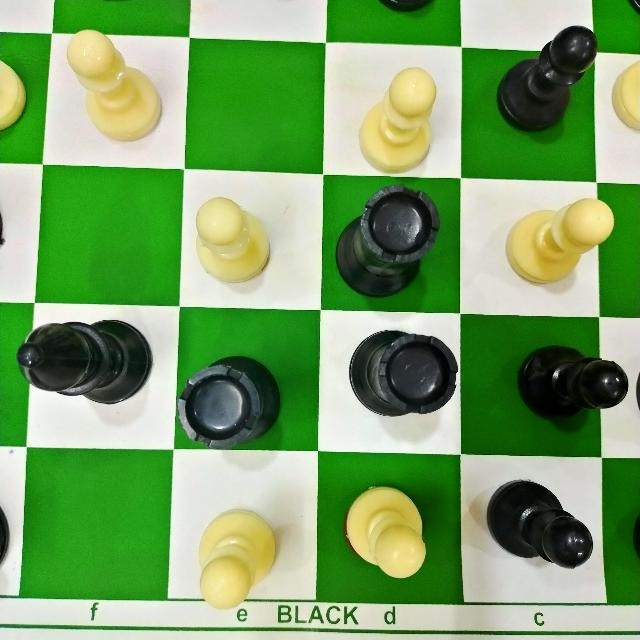black-pawn: (479, 470, 607, 579), (488, 18, 600, 132), (512, 335, 630, 439)
black-rook: (170, 336, 286, 452), (331, 180, 441, 302), (341, 324, 461, 434)
white-pawn: (61, 22, 170, 144), (337, 476, 441, 591), (504, 193, 618, 291), (186, 495, 280, 607), (355, 61, 443, 178), (183, 190, 280, 287)
